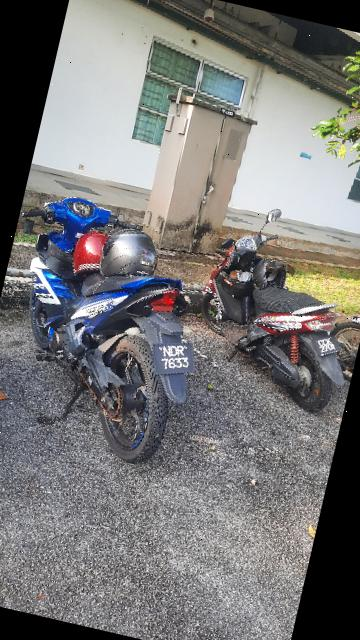License_Plate: (145, 334, 208, 386), (307, 331, 354, 366)
motorcycle: (1, 177, 239, 478), (172, 223, 360, 426)
